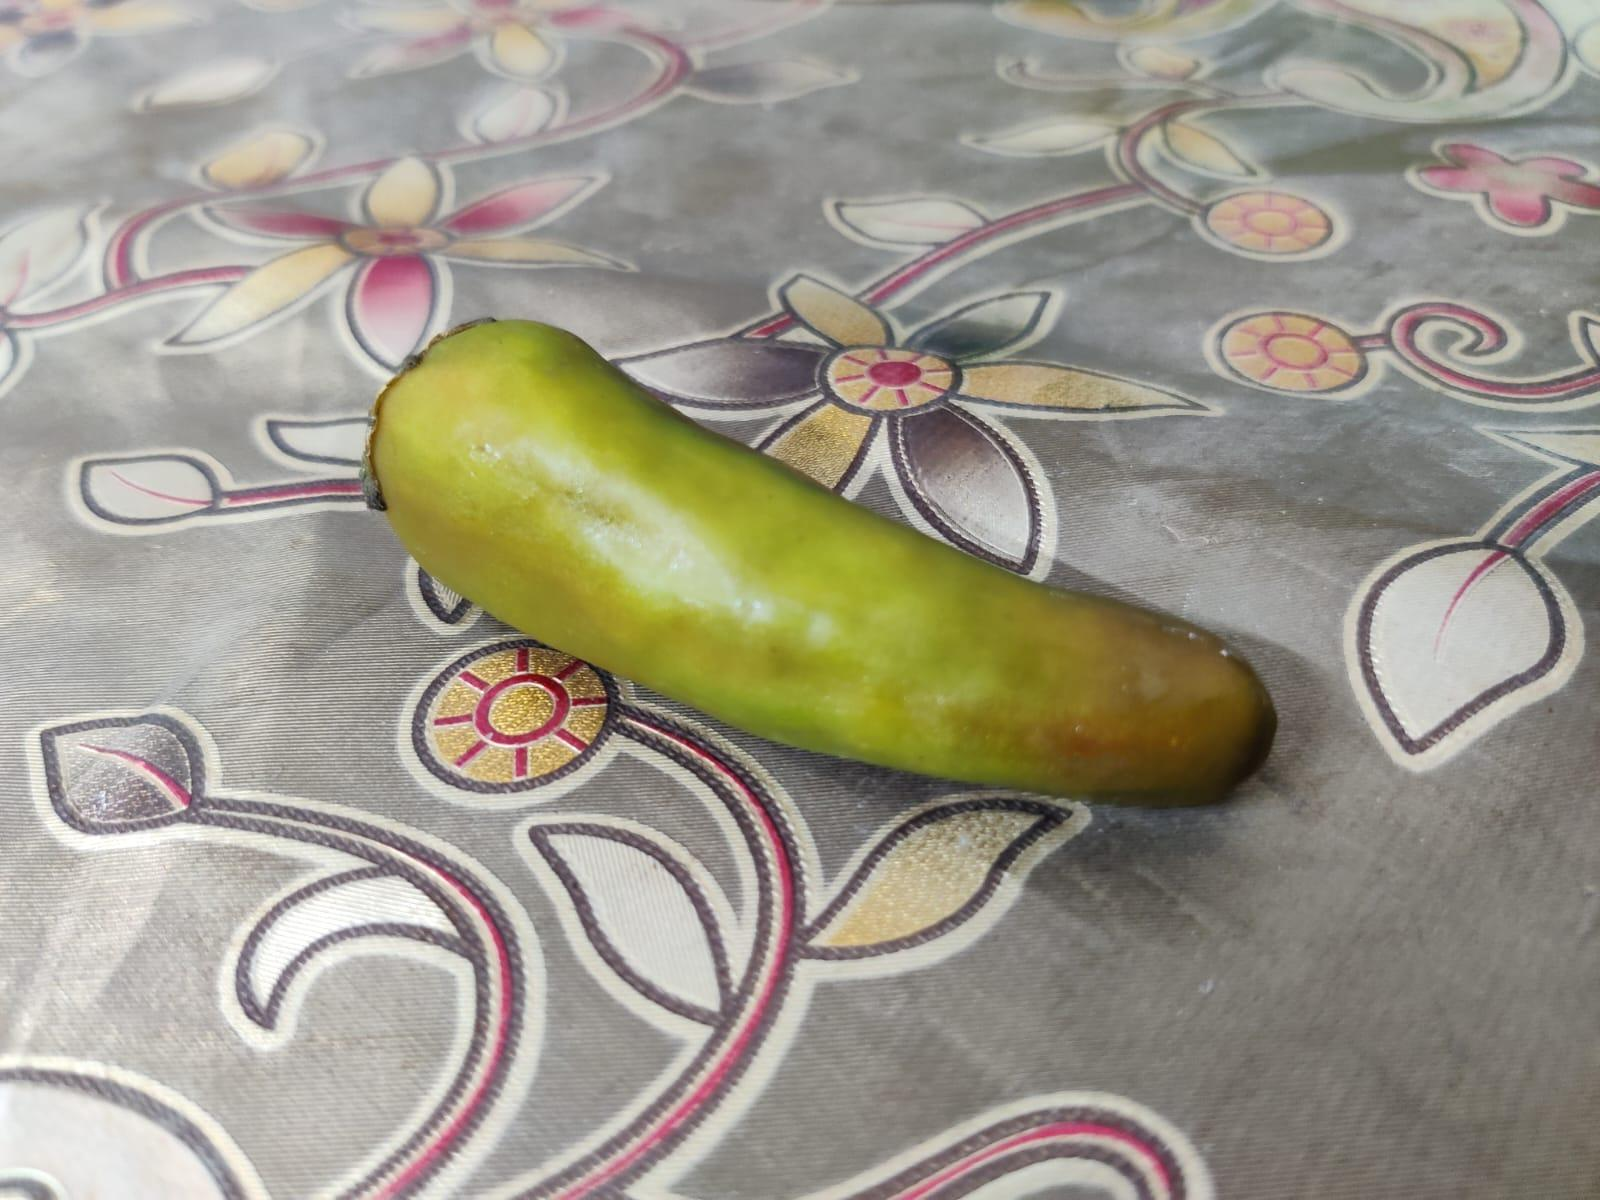non-mango: (367, 303, 1277, 814)
